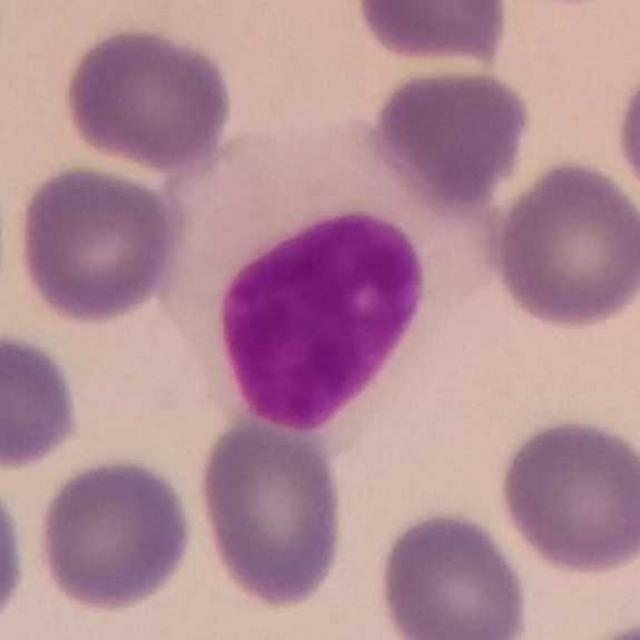Lymphocyte: (157, 105, 474, 439)
RBC: (192, 412, 350, 612), (11, 159, 186, 327), (59, 22, 238, 176), (31, 452, 198, 615), (487, 156, 640, 333), (364, 62, 536, 208), (494, 413, 640, 579), (373, 505, 533, 640), (0, 326, 85, 473), (350, 0, 514, 70), (0, 468, 31, 638), (611, 52, 640, 220), (571, 615, 640, 640)
